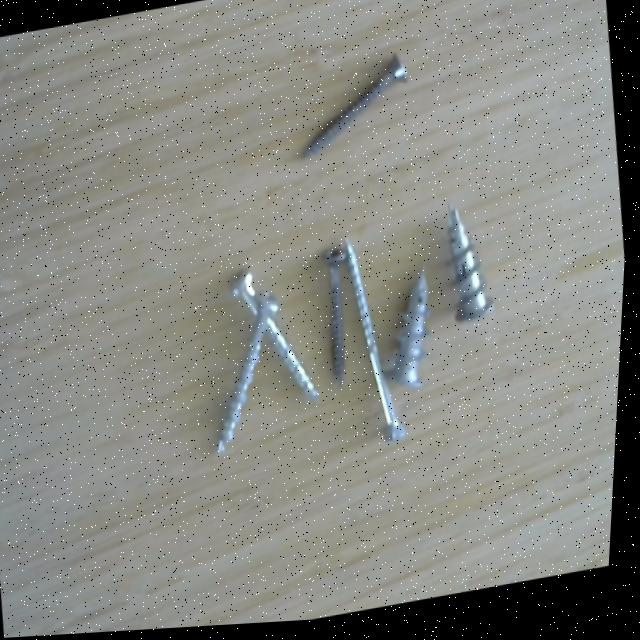Black screw: (290, 47, 423, 170), (317, 243, 368, 397)
Long screw: (333, 234, 426, 457)
Medium screw: (220, 253, 335, 423), (199, 286, 304, 464)
Short screw: (371, 265, 452, 403), (432, 199, 507, 339)
